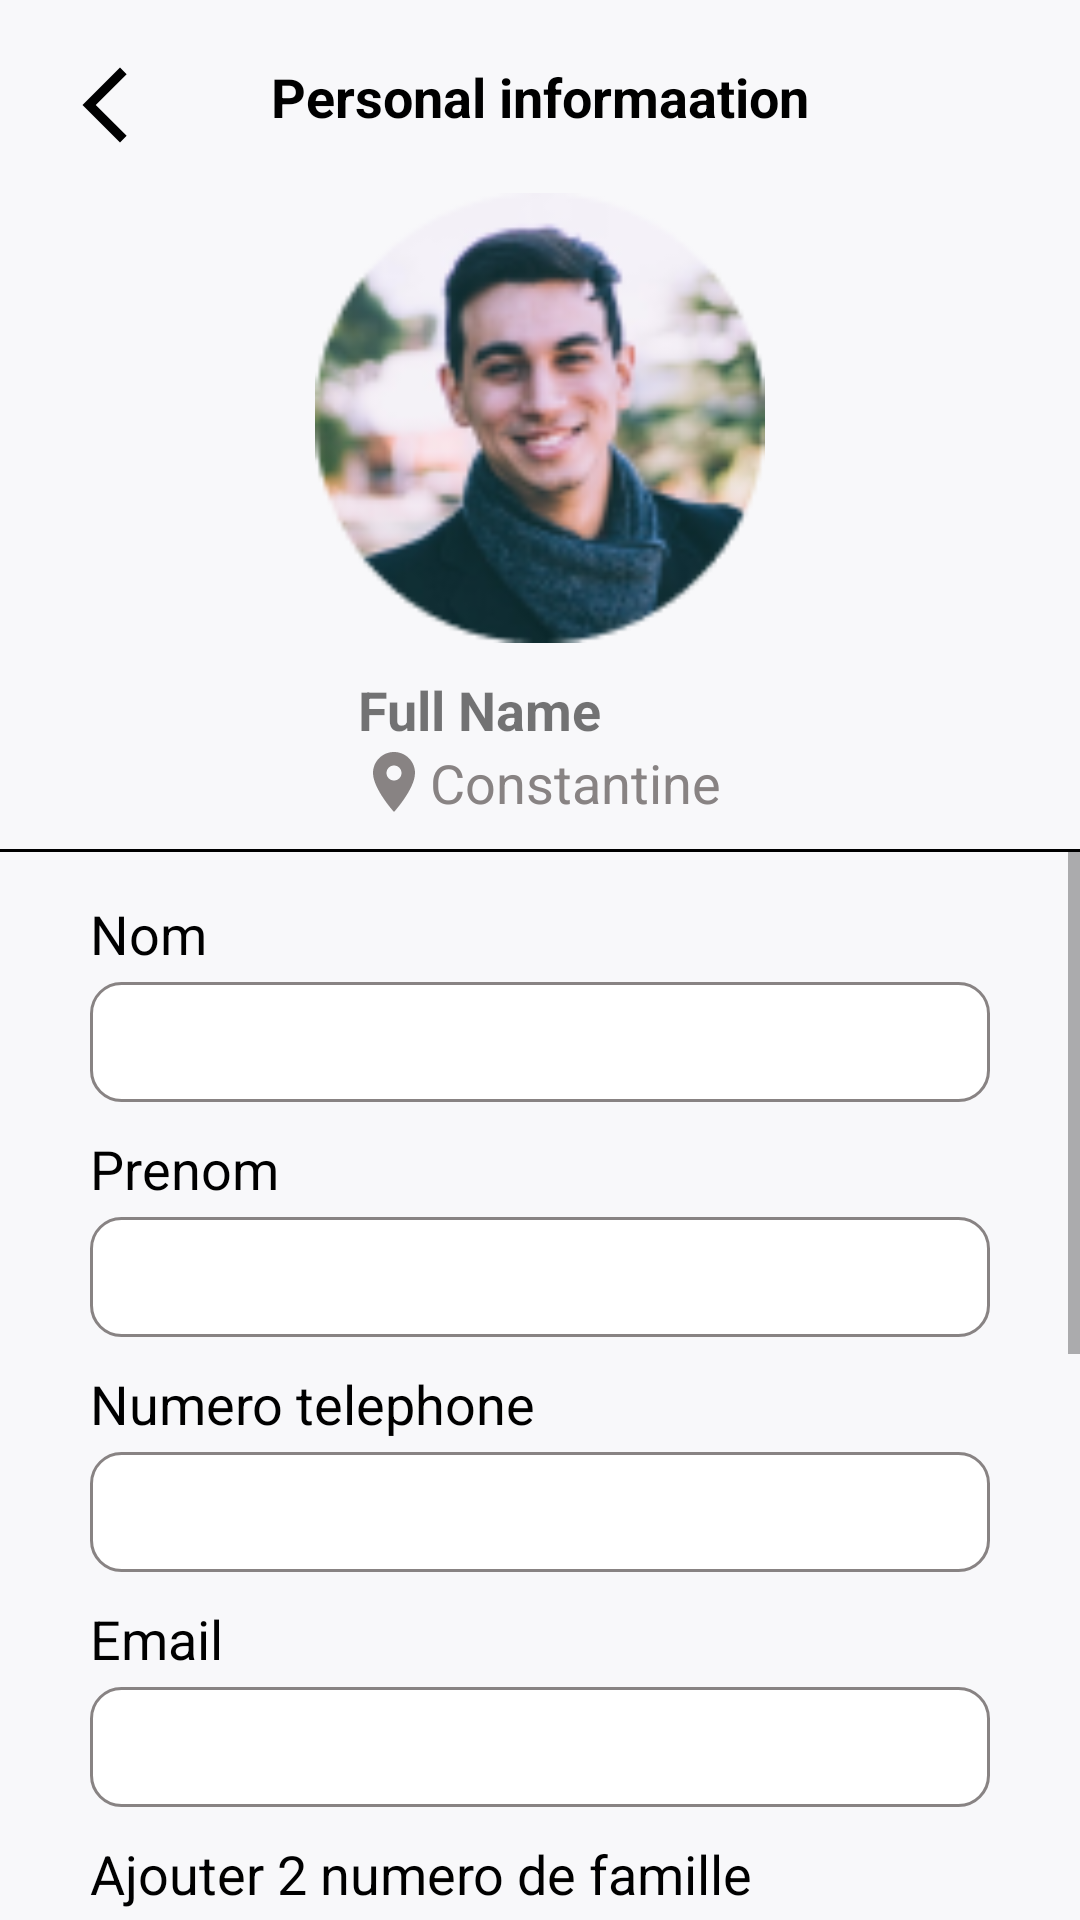

Named icons in this screenshot (1080w x 1920h) and their bounding boxes, box(x1, y1, x2, y2):
back: box(82, 67, 127, 143)
